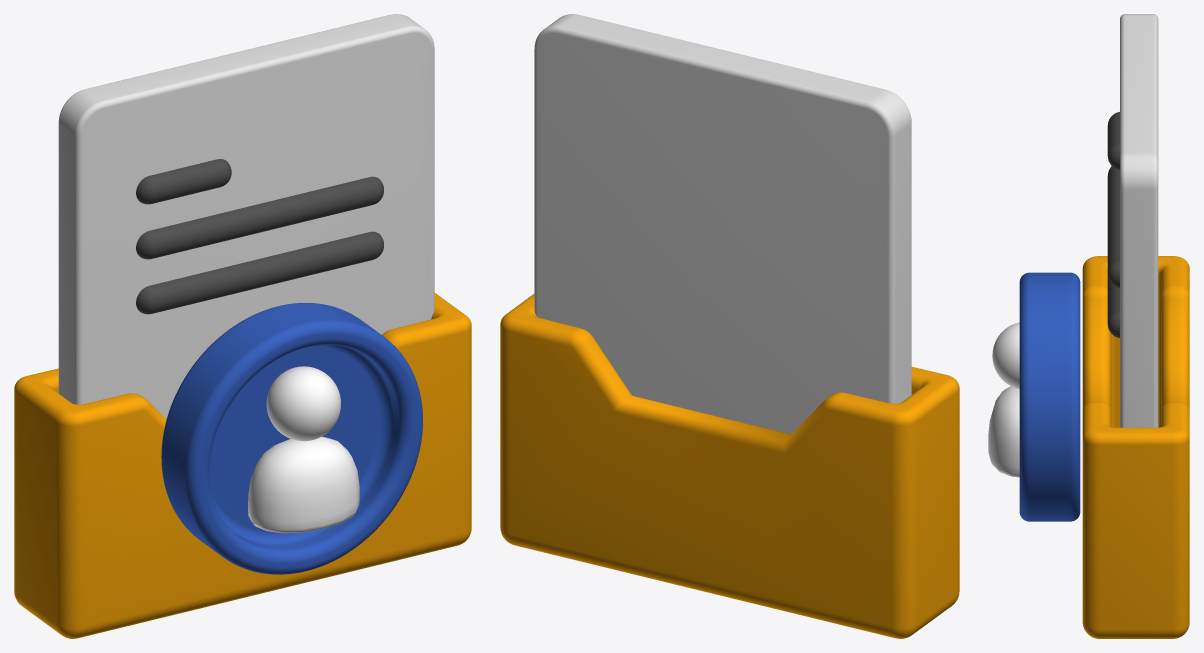
The model's file is resume1.gltf.
3 views of the same model, side by side, from view 1: azimuth 30°, elevation 25°; view 2: azimuth 150°, elevation 25°; view 3: azimuth 270°, elevation 25° (orthographic). The views are drawn at different scales.
Visible parts, largest first — view 1: paper, resume1, person_bg, paper_lines, person; view 2: paper, resume1; view 3: resume1, paper, person_bg, person, paper_lines.
Boxes of the visible parts, x1,y1,x2,y2 form: paper: [58, 14, 434, 419]; resume1: [14, 293, 471, 638]; person_bg: [161, 303, 422, 574]; paper_lines: [136, 159, 383, 314]; person: [248, 366, 359, 533]; paper: [534, 14, 911, 434]; resume1: [500, 294, 959, 638]; resume1: [1082, 256, 1189, 638]; paper: [1120, 14, 1158, 427]; person_bg: [1019, 272, 1080, 521]; person: [988, 322, 1019, 477]; paper_lines: [1107, 112, 1119, 337].
Size of the model in its own units: 3.06 by 3.66 by 1.42.
